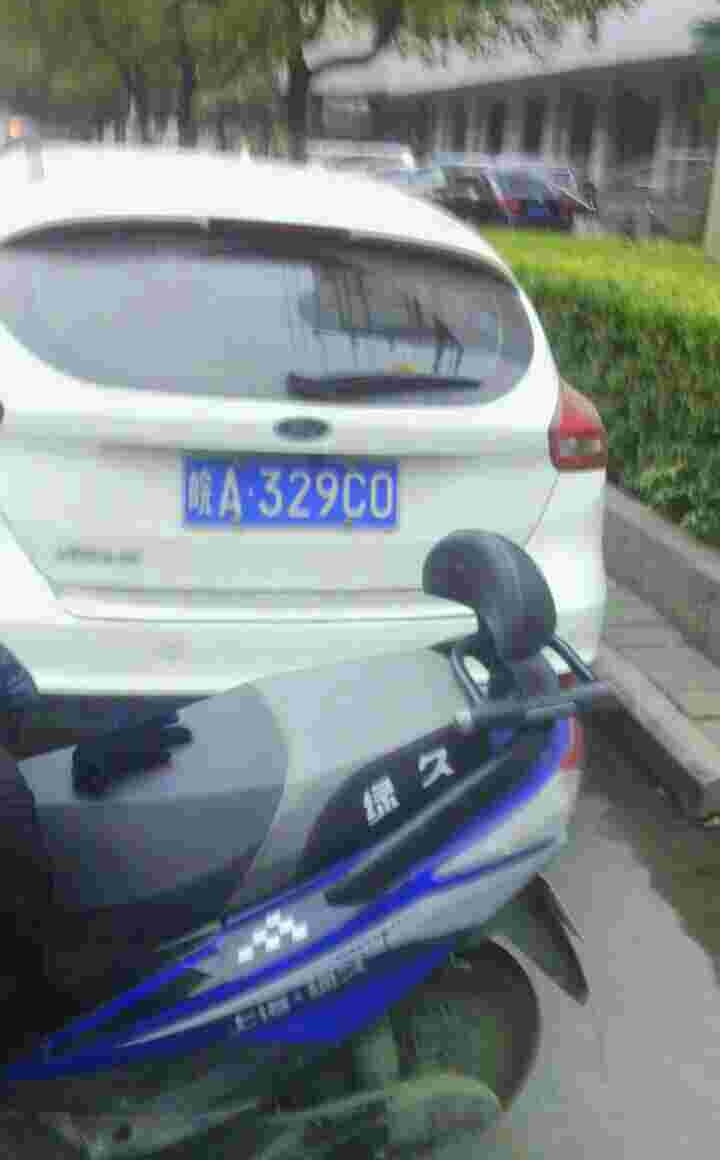car: (177, 451, 401, 535)
